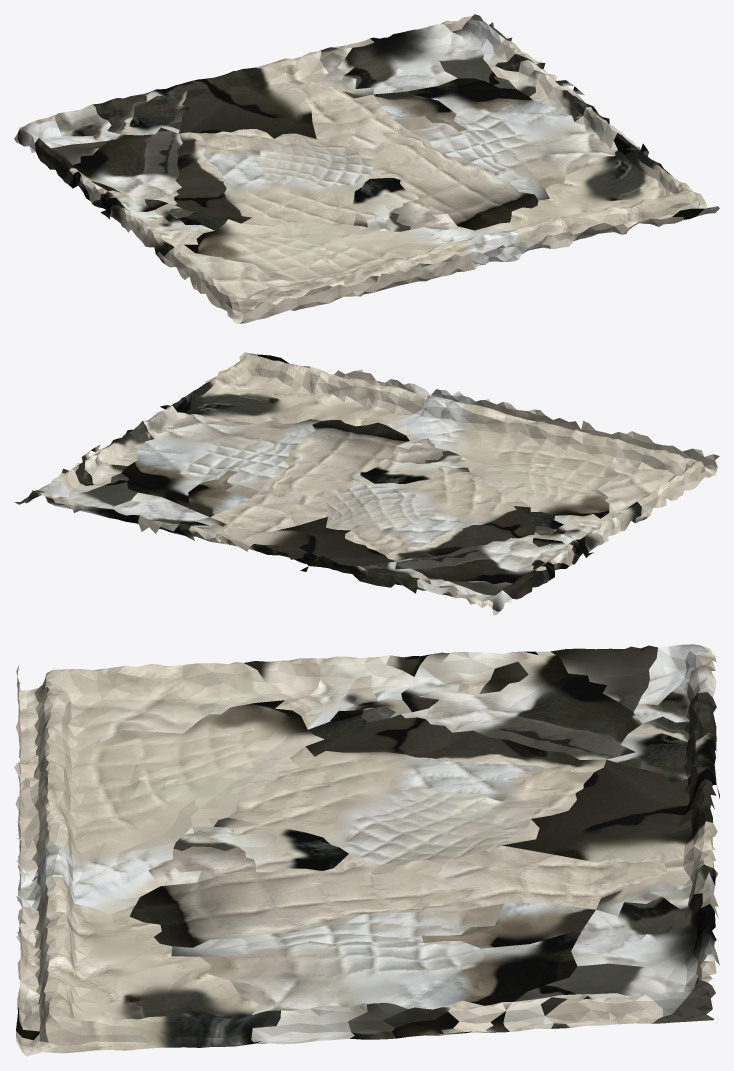
File: foto.gltf
The picture shows the model from 3 angles, top to bottom: view 1: azimuth 30°, elevation 25°; view 2: azimuth 150°, elevation 25°; view 3: azimuth 270°, elevation 25°; orthographic projection. The views are drawn at different scales.
Parts seen in each view (by area): view 1: model_Foto nice_20250202_124908214; view 2: model_Foto nice_20250202_124908214; view 3: model_Foto nice_20250202_124908214.
Boxes of the visible parts, box(x1,y1,x2,y2) form: model_Foto nice_20250202_124908214: box(14, 14, 719, 323); model_Foto nice_20250202_124908214: box(14, 352, 719, 615); model_Foto nice_20250202_124908214: box(14, 644, 719, 1056).
Bounding box in the file's own units: 1.41 × 0.1215 × 1.16.
